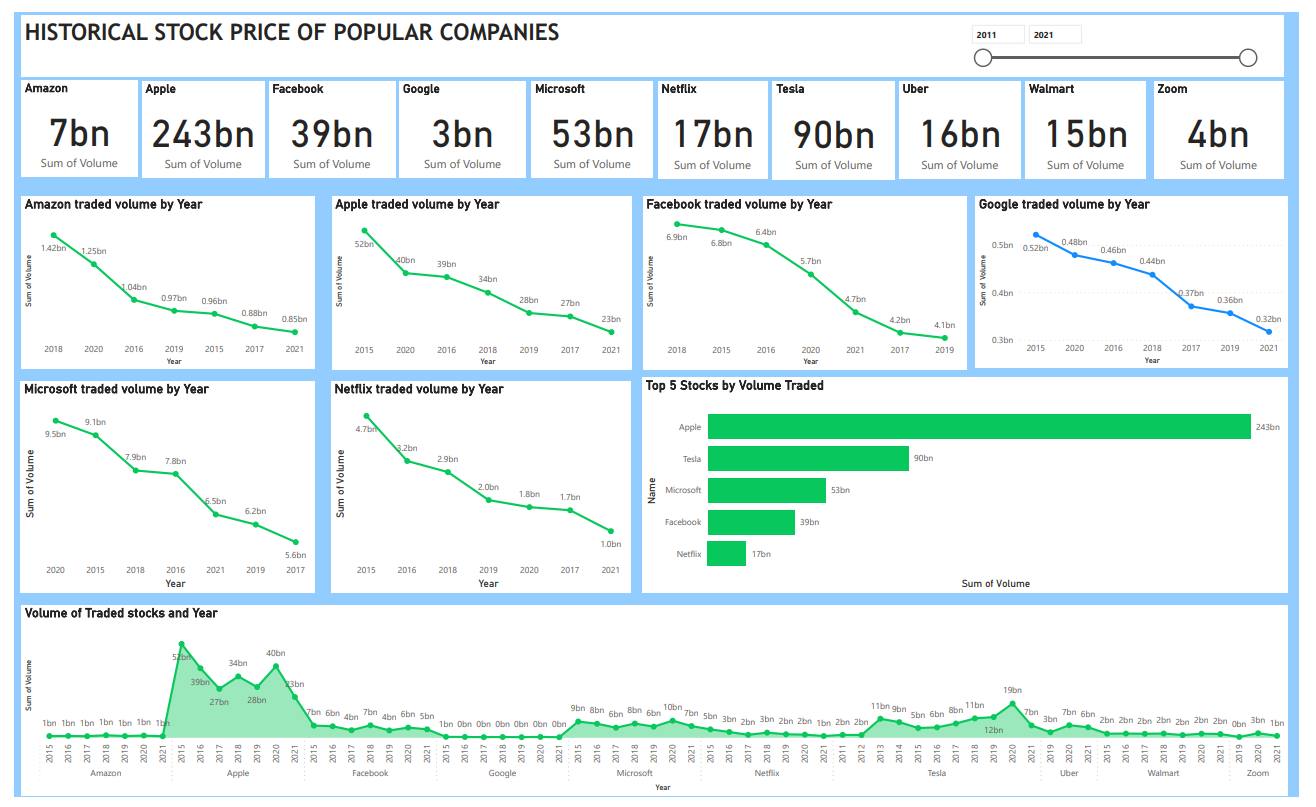

What the dashboard file says about the page in this screenshot:
{"tool":"powerbi","page":{"name":"Page 1","canvas":[1800,1100],"ordinal":0},"visuals":[{"type":"textbox","box":[9.6,3.8,1769.2,86],"z":0},{"type":"lineChart","title":"Amazon traded volume by Year","fields":{"Category":["Amazon.Year"],"Y":["Sum(Amazon.Amazon Volume)"]},"box":[9.6,257.7,411.5,242.3],"z":1000},{"type":"lineChart","title":"Apple traded volume by Year","fields":{"Category":["Apple.Year"],"Y":["Sum(Apple.Apple Volume)"]},"box":[444.9,257.9,419.6,242.9],"z":2000},{"type":"lineChart","title":"Facebook traded volume by Year","fields":{"Category":["Facebook.Year"],"Y":["Sum(Facebook.Facebook Volume)"]},"box":[880.6,257.9,453.6,242.9],"z":3000},{"type":"lineChart","title":"Google traded volume by Year","fields":{"Category":["Google.Year"],"Y":["Sum(Google.Google Volume)"]},"box":[1346.5,257.7,438.9,240.9],"z":4000},{"type":"lineChart","title":"Microsoft traded volume by Year","fields":{"Category":["Microsoft.Year"],"Y":["Sum(Microsoft.MicrosoftvVolume)"]},"box":[9,517.3,412.7,296.9],"z":5000},{"type":"lineChart","title":"Netflix traded volume by Year","fields":{"Category":["Netflix.Year"],"Y":["Sum(Netflix.Netflix Volume)"]},"box":[444.1,517.3,420.2,296.9],"z":6000},{"type":"lineChart","title":"Volume of Traded stocks and Year","fields":{"Y":["Sum(10 historical stocks data.Volume)"],"Category":["10 historical stocks data.Name","10 historical stocks data.Date.Variation.Date Hierarchy.Year"]},"box":[9.8,830.9,1775,267.1],"z":7000},{"type":"clusteredBarChart","title":"Top 5 Stocks by Volume Traded","fields":{"Y":["Sum(10 historical stocks data.Volume)"],"Category":["10 historical stocks data.Name"]},"box":[879.6,511.7,905.8,302.5],"z":8000},{"type":"card","title":"Amazon","fields":{"Values":["Sum(Amazon.Volume)"]},"box":[9.6,96.2,163.5,134.6],"z":9000},{"type":"card","title":"Apple","fields":{"Values":["Sum(Apple.Volume)"]},"box":[179.3,97.1,171.8,134.5],"z":10000},{"type":"card","title":"Facebook","fields":{"Values":["Sum(Facebook.Volume)"]},"box":[356.7,97.1,177.4,134.5],"z":11000},{"type":"card","title":"Google","fields":{"Values":["Sum(Google.Volume)"]},"box":[539.7,97.1,177.4,134.5],"z":12000},{"type":"card","title":"Microsoft","fields":{"Values":["Sum(Microsoft.Volume)"]},"box":[724.6,97.1,169.9,134.5],"z":13000},{"type":"card","title":"Netflix","fields":{"Values":["Sum(Netflix.Volume)"]},"box":[902,97.1,153.1,136.3],"z":14000},{"type":"card","title":"Tesla","fields":{"Values":["Sum(Tesla.Volume)"]},"box":[1063,97,171,138],"z":15000},{"type":"card","title":"Uber","fields":{"Values":["Sum(Uber.Volume)"]},"box":[1240,97,170,136],"z":16000},{"type":"card","title":"Walmart","fields":{"Values":["Sum(Walmart.Volume)"]},"box":[1417,97,169,136],"z":17000},{"type":"card","title":"Zoom","fields":{"Values":["Sum(Zoom.Volume)"]},"box":[1597,97,181,136],"z":18000},{"type":"slicer","fields":{"Values":["10 historical stocks data.Date.Variation.Date Hierarchy.Year"]},"box":[1328.8,7.7,421.2,70],"z":19000}]}

Visuals, with their boxes in screenshot pixels (x1, y1, x2, y2), scaled from the page's 1800x1100 canvas onto the 1316x807 screenshot:
textbox: 7:3:1301:66
"Amazon traded volume by Year" lineChart: 7:189:308:367
"Apple traded volume by Year" lineChart: 325:189:632:367
"Facebook traded volume by Year" lineChart: 644:189:975:367
"Google traded volume by Year" lineChart: 984:189:1305:366
"Microsoft traded volume by Year" lineChart: 7:380:308:597
"Netflix traded volume by Year" lineChart: 325:380:632:597
"Volume of Traded stocks and Year" lineChart: 7:610:1305:806
"Top 5 Stocks by Volume Traded" clusteredBarChart: 643:375:1305:597
"Amazon" card: 7:71:127:169
"Apple" card: 131:71:257:170
"Facebook" card: 261:71:390:170
"Google" card: 395:71:524:170
"Microsoft" card: 530:71:654:170
"Netflix" card: 659:71:771:171
"Tesla" card: 777:71:902:172
"Uber" card: 907:71:1031:171
"Walmart" card: 1036:71:1160:171
"Zoom" card: 1168:71:1300:171
slicer - 10 historical stocks data.Date.Variation.Date Hierarchy.Year: 972:6:1279:57
